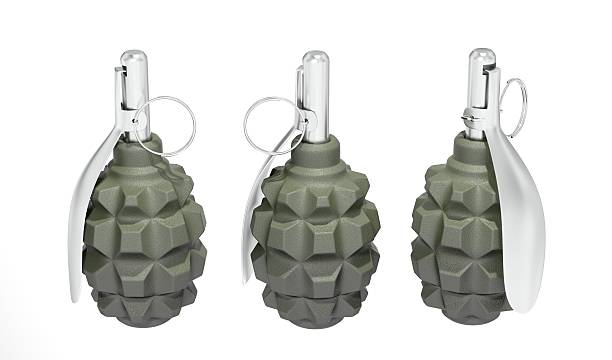e1: (64, 48, 206, 328), (240, 52, 382, 332), (409, 47, 546, 326)
